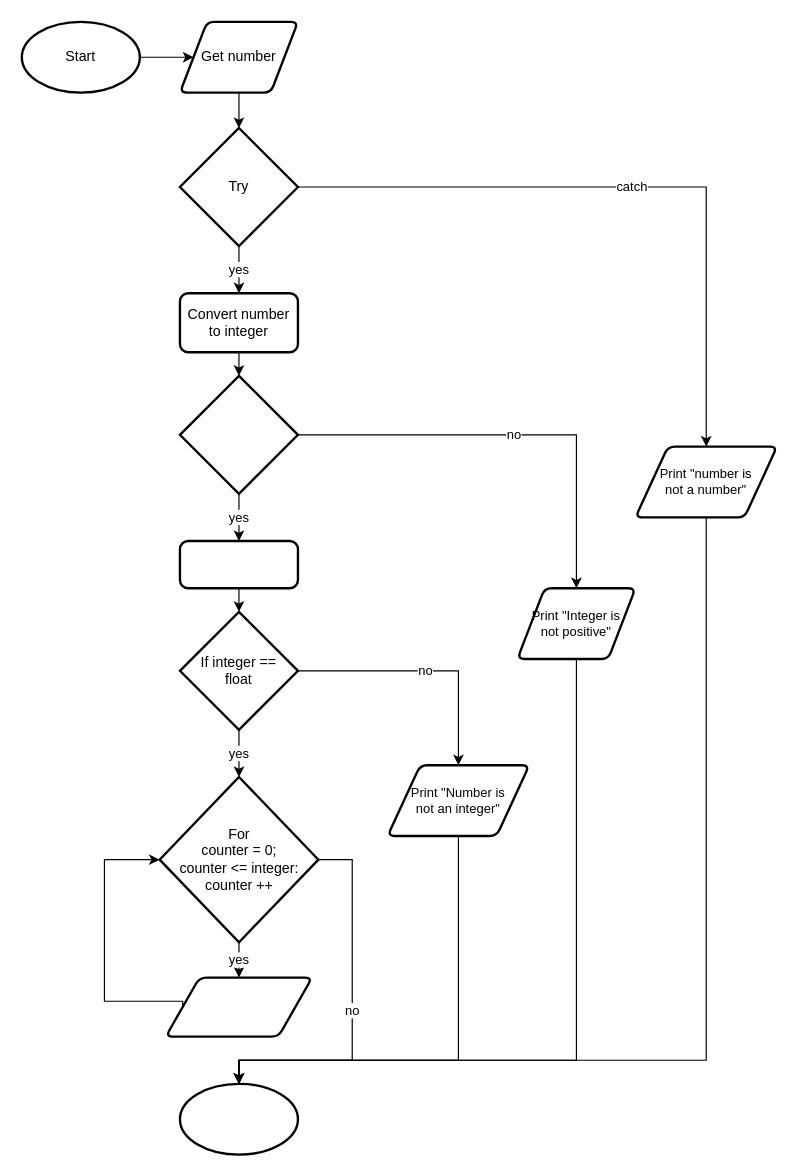
The diagram is 798 pixels wide and 1175 high, and some of its shapes have lost their labels. The centre of each missing label's shape, as x and y in pixels:
Convert number to float: point 238,564
If integer >= 0: point 238,434
Print "integer ² = integer ^^ 2": point 238,1006
Stop: point 238,1118
